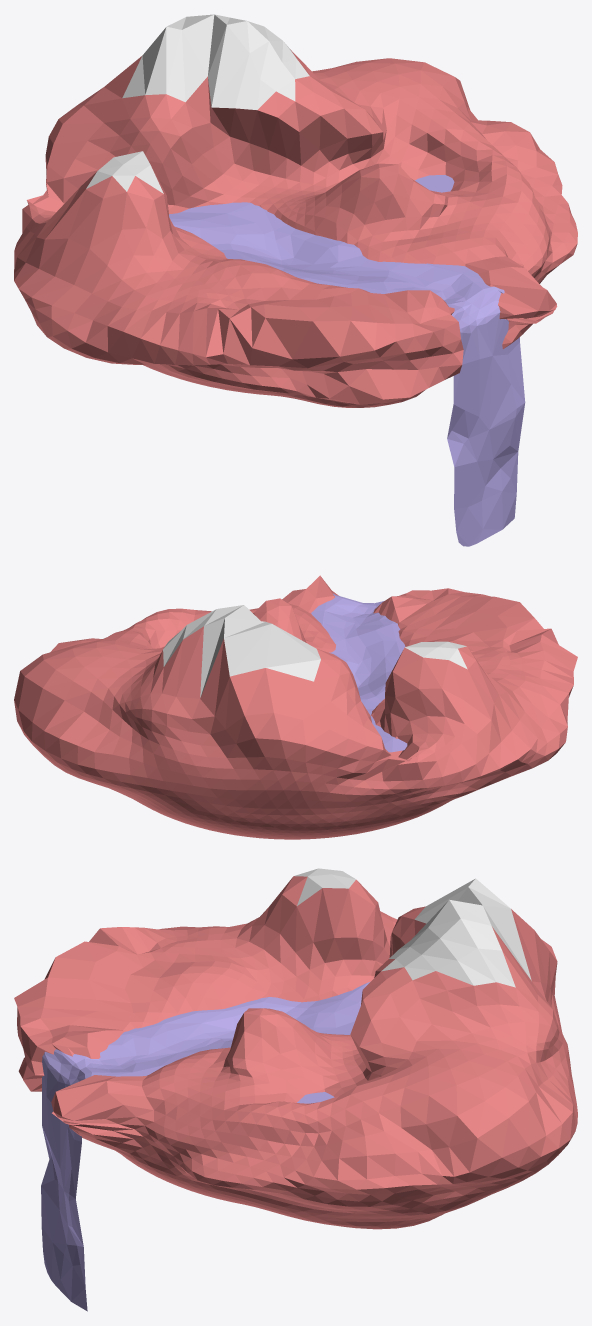
Rendered from HuiLand2.fbx.
3 views of the same model, one above another, from view 1: azimuth 30°, elevation 25°; view 2: azimuth 150°, elevation 25°; view 3: azimuth 270°, elevation 25° (orthographic). The views are drawn at different scales.
Visible parts, largest first — view 1: 아이코스피어, Water; view 2: 아이코스피어, Water; view 3: 아이코스피어, Water.
Boxes of the visible parts, left/top/right/bottom form: 아이코스피어: left=14, top=14, right=577, bottom=407; Water: left=169, top=175, right=525, bottom=546; 아이코스피어: left=14, top=575, right=577, bottom=839; Water: left=311, top=593, right=407, bottom=752; 아이코스피어: left=14, top=868, right=577, bottom=1229; Water: left=41, top=982, right=369, bottom=1311.
Size of the model in its own units: 7000 by 4644 by 6500.
